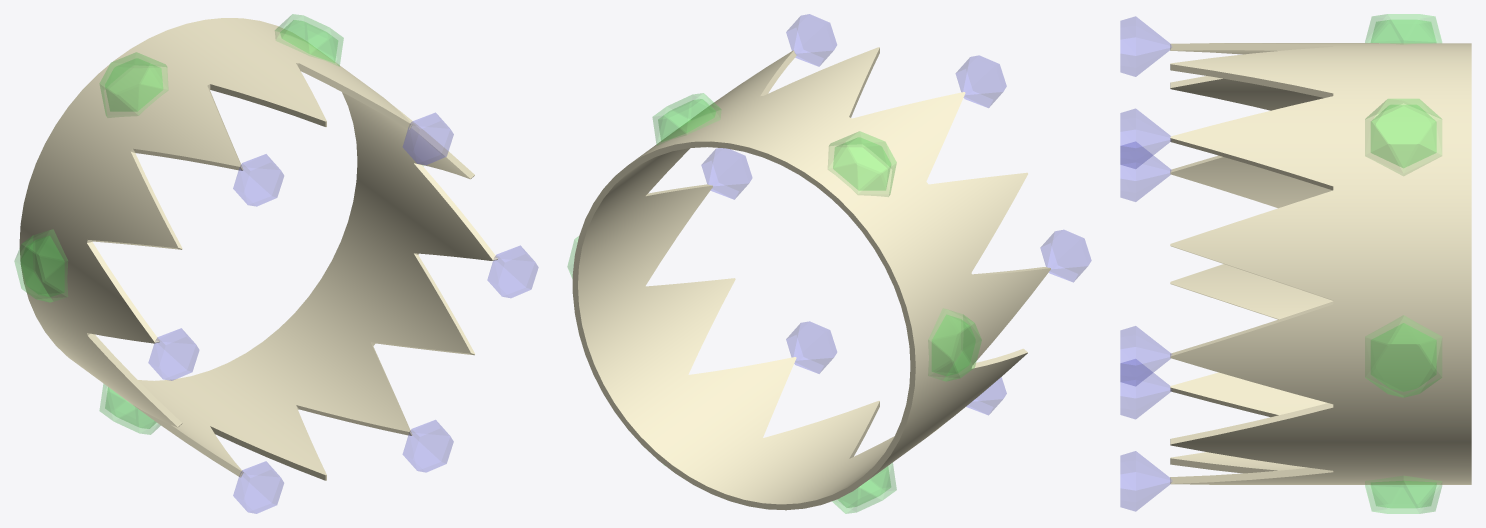
File: Crown.glb
The picture shows the model from 3 angles, left to right: view 1: azimuth 30°, elevation 25°; view 2: azimuth 150°, elevation 25°; view 3: azimuth 270°, elevation 25°; orthographic projection. The views are drawn at different scales.
Size of the model in its own units: 22.91 by 21.07 by 16.15.
